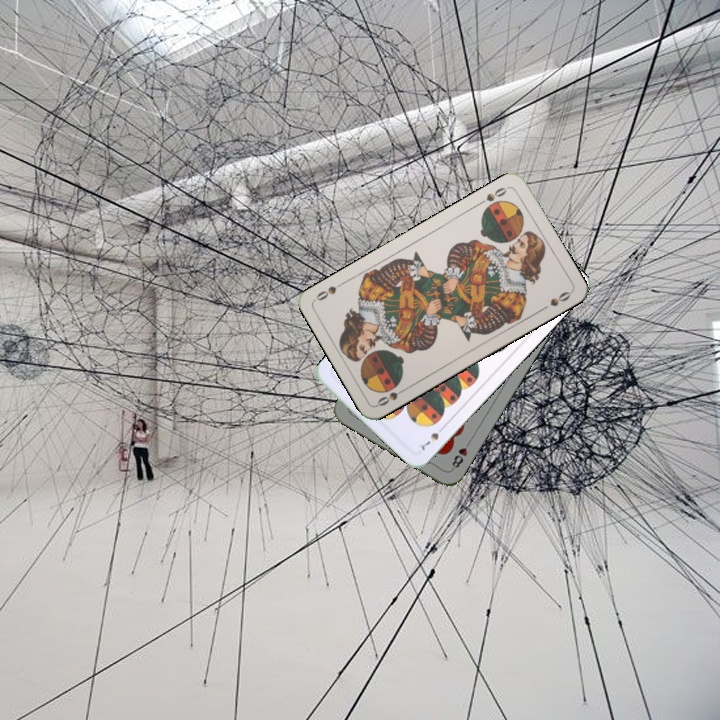H8: (447, 436, 474, 472)
S7: (417, 422, 448, 453)
SO: (474, 182, 512, 212), (373, 383, 410, 409)
